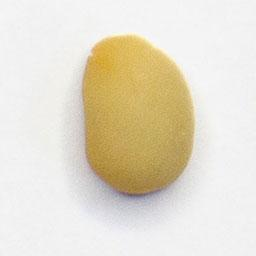defect: (74, 29, 202, 202)
